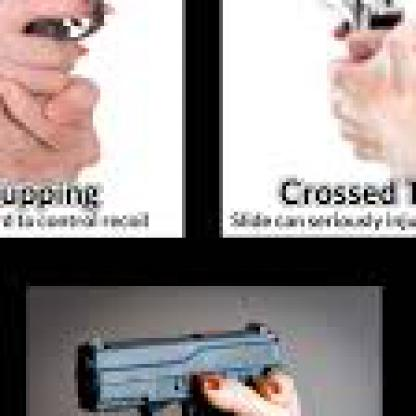gun: (60, 316, 297, 412), (0, 0, 179, 68), (297, 0, 409, 41)
